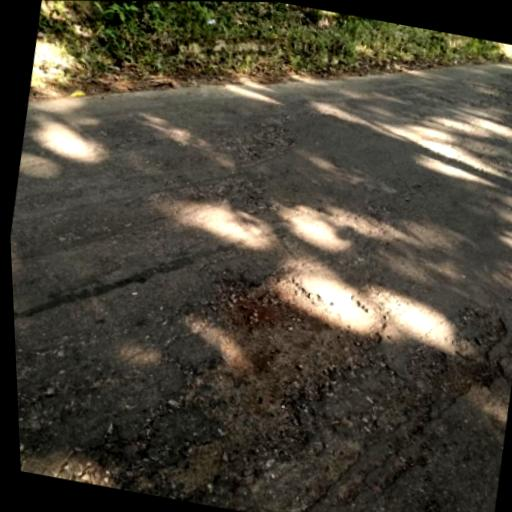pothole: (175, 256, 397, 474)
